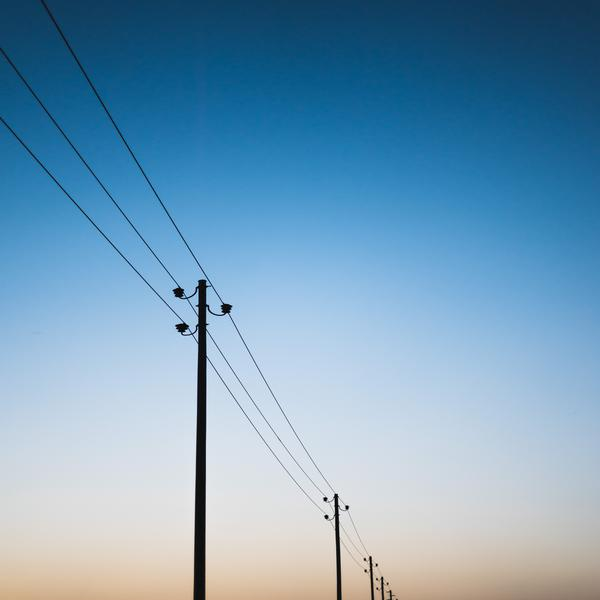utility_pole: (163, 265, 240, 354), (317, 485, 354, 530)
